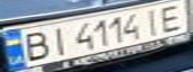1: (90, 16, 112, 47), (106, 12, 127, 44)
4: (72, 19, 96, 51), (121, 10, 145, 40)
B: (15, 28, 54, 62)
E: (151, 1, 190, 33)
I: (45, 24, 72, 55), (139, 5, 166, 35)
